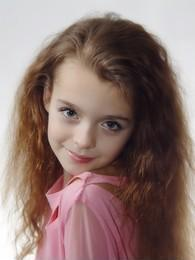face: (41, 79, 136, 173)
